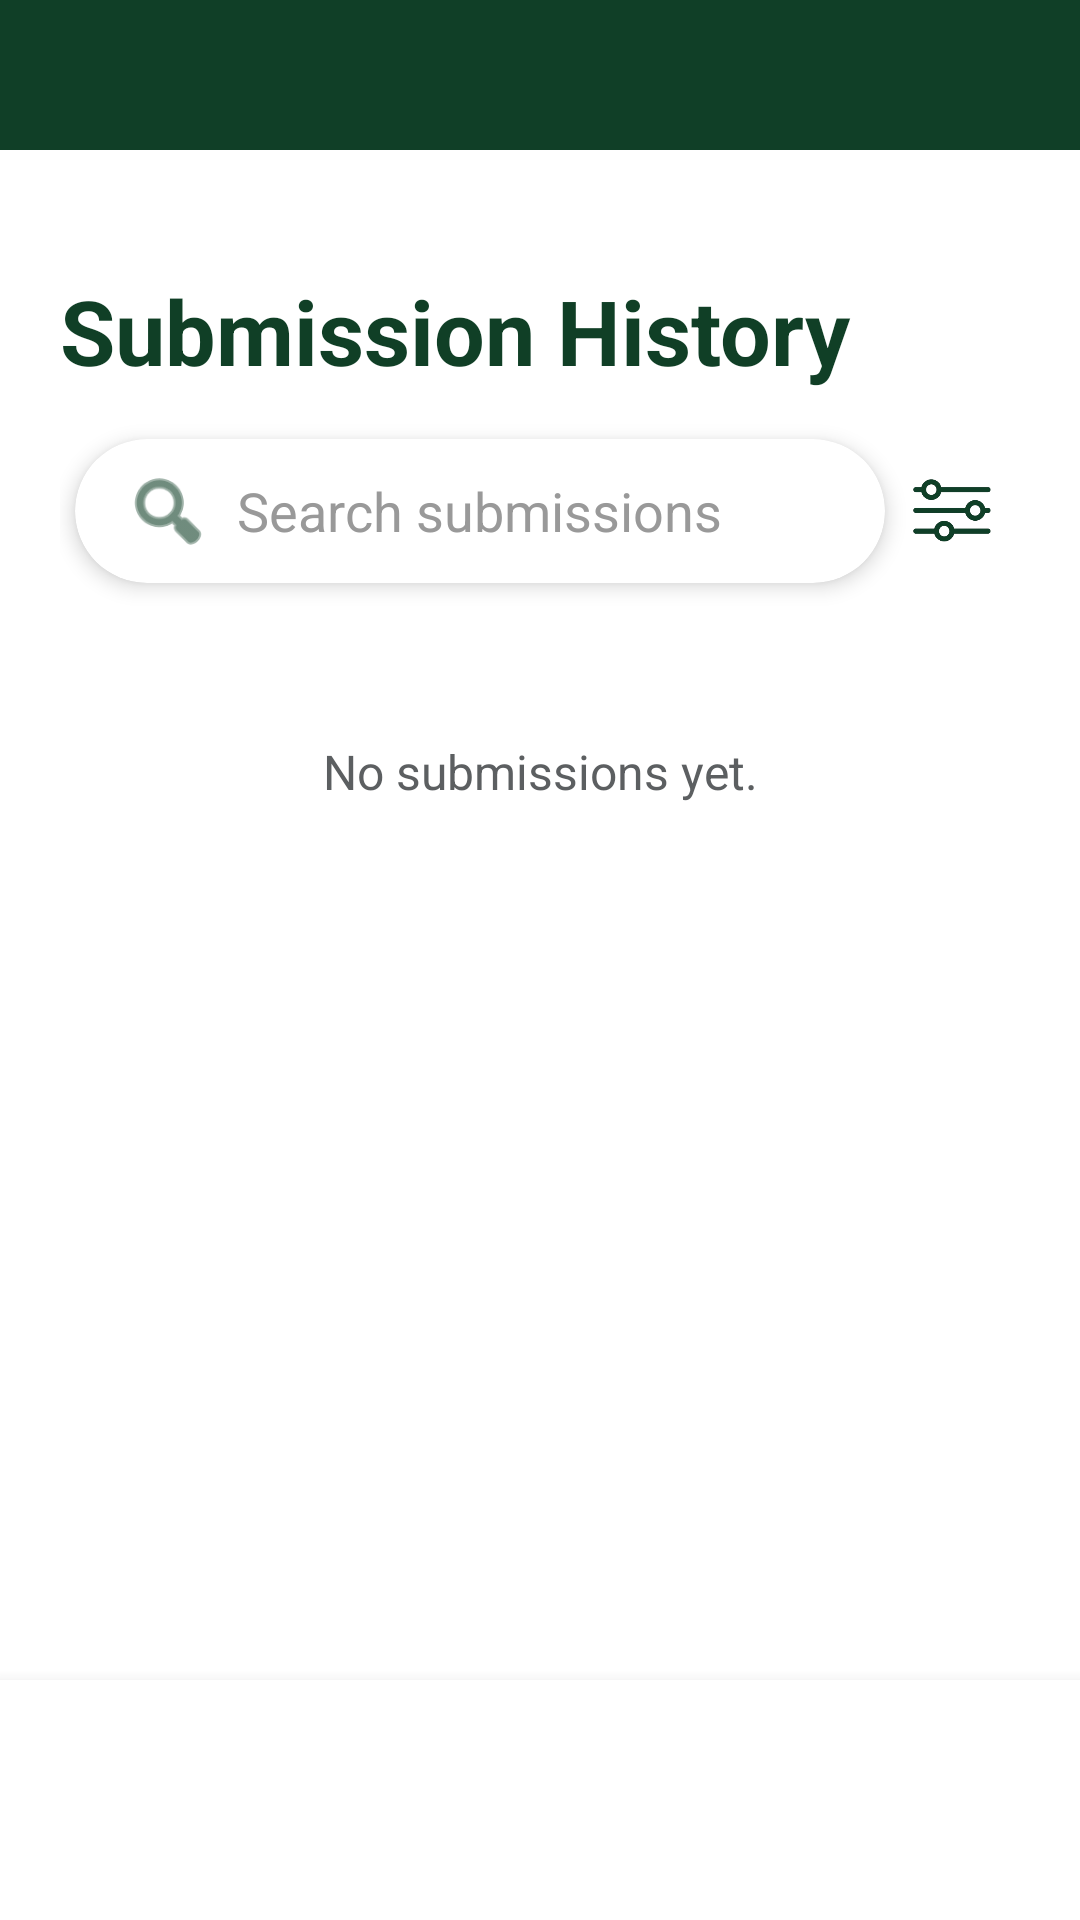

Where to tap for icons on this 1080×1920 app screen, as (x,y):
Filter: (952,510)
